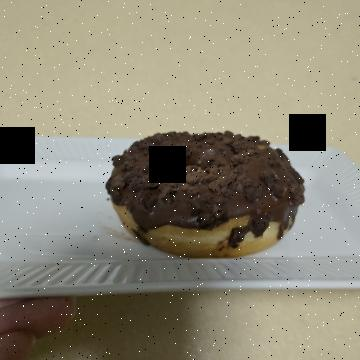doughnut: (121, 44, 280, 267)
